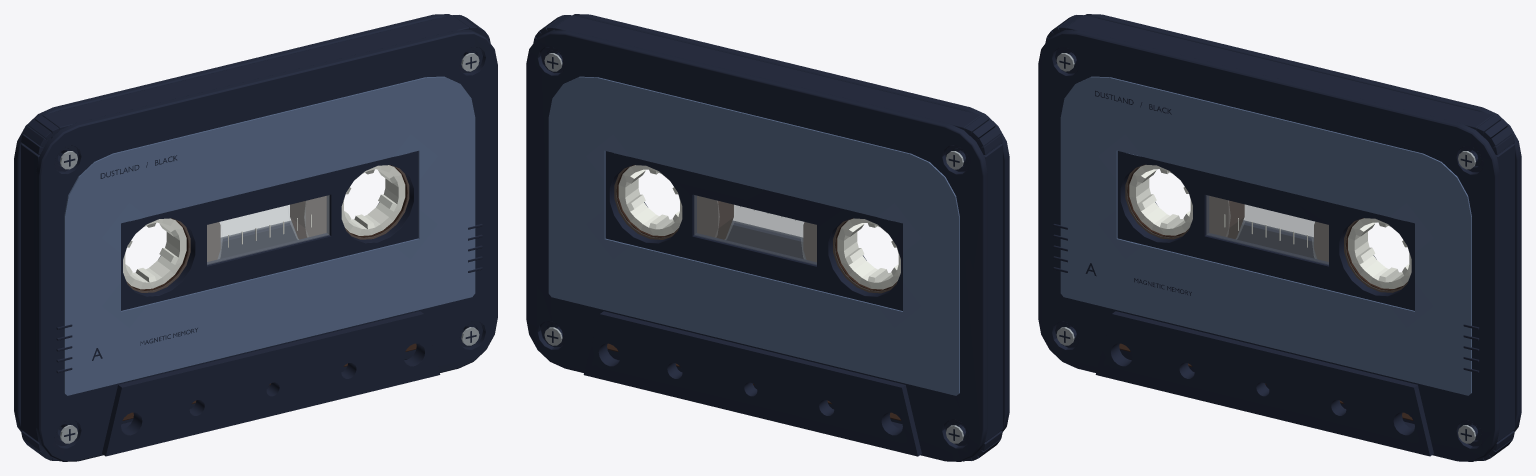
The model's file is black.glb.
The picture shows the model from 3 angles, left to right: view 1: azimuth 30°, elevation 25°; view 2: azimuth 150°, elevation 25°; view 3: azimuth 330°, elevation 25°; orthographic projection.
Visible parts, largest first — view 1: label_front__black, shell_front__black, shell_front_head_shroud.002, topwall.003, shell_back__black, shell_front_window.001, sidewall.006, original toothed hub__Cylinder.006, original toothed hub__Cylinder.007, original magnetic winding__Cylinder.007, shell_back_window.001, original magnetic winding__Cylinder.008; view 2: label_back__black, shell_back__black, shell_back_head_shroud.002, topwall.003, shell_front__black, shell_back_window.001, sidewall.006, original toothed hub__Cylinder.006, original toothed hub__Cylinder.007, original magnetic winding__Cylinder.007, shell_front_window.001, original magnetic winding__Cylinder.008; view 3: label_front__black, shell_front__black, shell_front_head_shroud.002, topwall.003, shell_back__black, shell_front_window.001, sidewall.007, original toothed hub__Cylinder.007, original toothed hub__Cylinder.006, original magnetic winding__Cylinder.008, shell_back_window.001, original magnetic winding__Cylinder.007.
Boxes of the visible parts, bbox=[...] form: label_front__black: bbox=[64, 76, 475, 395]; shell_front__black: bbox=[36, 30, 497, 461]; shell_front_head_shroud.002: bbox=[102, 311, 440, 456]; topwall.003: bbox=[42, 15, 469, 129]; shell_back__black: bbox=[14, 14, 451, 431]; shell_front_window.001: bbox=[207, 195, 329, 264]; sidewall.006: bbox=[21, 144, 39, 441]; original toothed hub__Cylinder.006: bbox=[341, 165, 405, 235]; original toothed hub__Cylinder.007: bbox=[123, 218, 186, 289]; original magnetic winding__Cylinder.007: bbox=[290, 165, 409, 239]; shell_back_window.001: bbox=[221, 206, 288, 237]; original magnetic winding__Cylinder.008: bbox=[126, 218, 220, 292]; label_back__black: bbox=[548, 76, 959, 395]; shell_back__black: bbox=[526, 30, 987, 461]; shell_back_head_shroud.002: bbox=[583, 311, 921, 456]; topwall.003: bbox=[554, 15, 981, 129]; shell_front__black: bbox=[573, 14, 1009, 431]; shell_back_window.001: bbox=[694, 195, 816, 264]; sidewall.006: bbox=[984, 144, 1002, 441]; original toothed hub__Cylinder.006: bbox=[618, 165, 682, 235]; original toothed hub__Cylinder.007: bbox=[837, 218, 900, 289]; original magnetic winding__Cylinder.007: bbox=[614, 165, 733, 239]; shell_front_window.001: bbox=[734, 206, 802, 237]; original magnetic winding__Cylinder.008: bbox=[803, 218, 897, 293]; label_front__black: bbox=[1060, 76, 1471, 395]; shell_front__black: bbox=[1038, 30, 1499, 461]; shell_front_head_shroud.002: bbox=[1095, 311, 1433, 456]; topwall.003: bbox=[1066, 15, 1493, 129]; shell_back__black: bbox=[1084, 14, 1521, 431]; shell_front_window.001: bbox=[1206, 195, 1328, 264]; sidewall.007: bbox=[1496, 144, 1514, 441]; original toothed hub__Cylinder.007: bbox=[1129, 165, 1192, 235]; original toothed hub__Cylinder.006: bbox=[1348, 218, 1411, 288]; original magnetic winding__Cylinder.008: bbox=[1125, 164, 1244, 239]; shell_back_window.001: bbox=[1245, 205, 1312, 237]; original magnetic winding__Cylinder.007: bbox=[1314, 218, 1407, 292].
Bounding box in the file's own units: 9.58 × 6.7 × 1.24.
